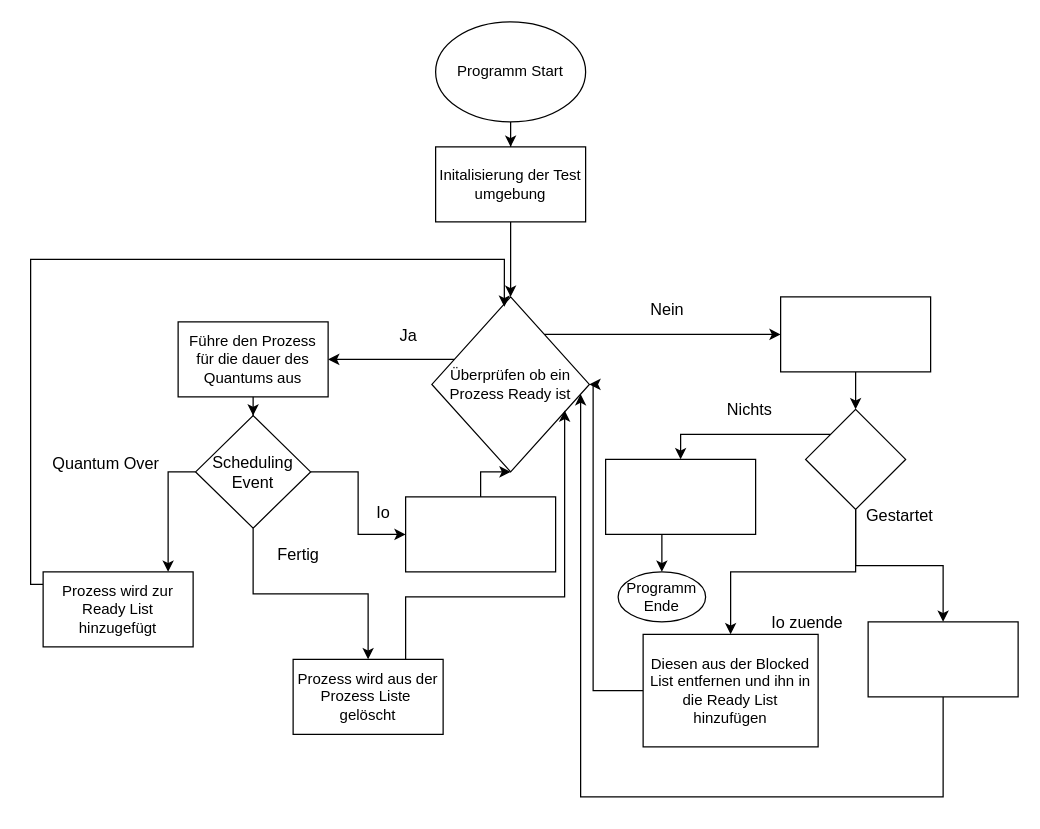
This 1040x829 diagram has some shape labels left out. The shapes that lost their labels are listed below. From the top down, each one's centre as x and y in pixels, then its label:
(x=855, y=334): Gehe in den Idle Modus
(x=855, y=458): release Event
(x=680, y=496): Simulation Beenden
(x=480, y=534): Prozess wird zur Blocked List hinzugefügt
(x=942, y=659): Prozess in die Ready List packen
